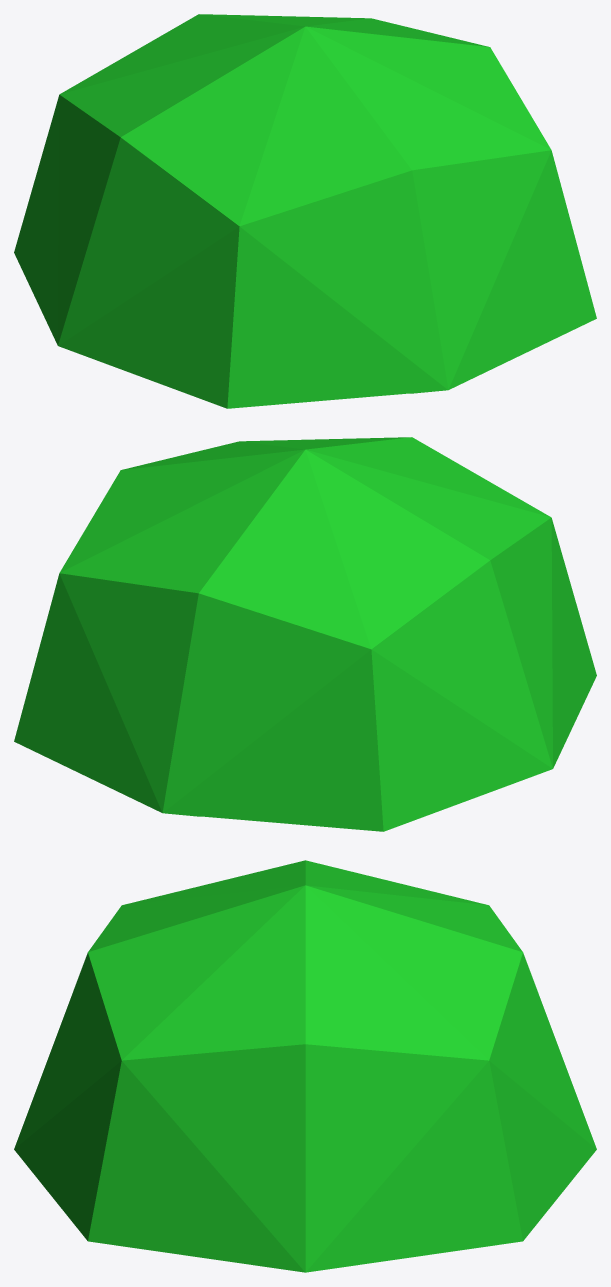
Rendered from Meronpan.fbx.
3 views of the same model, one above another, from view 1: azimuth 30°, elevation 25°; view 2: azimuth 150°, elevation 25°; view 3: azimuth 270°, elevation 25° (orthographic).
Visible parts, largest first — view 1: Cube; view 2: Cube; view 3: Cube.
Boxes of the visible parts, x1=… form: Cube: x1=14, y1=14, x2=596, y2=408; Cube: x1=14, y1=437, x2=596, y2=831; Cube: x1=14, y1=860, x2=596, y2=1272.
Bounding box in the file's own units: 317 × 217 × 317.
